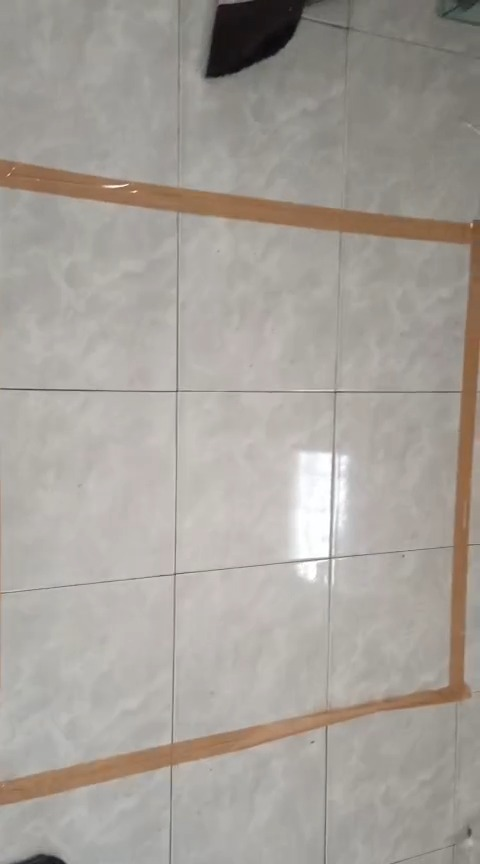floor marking: (0, 160, 479, 803)
